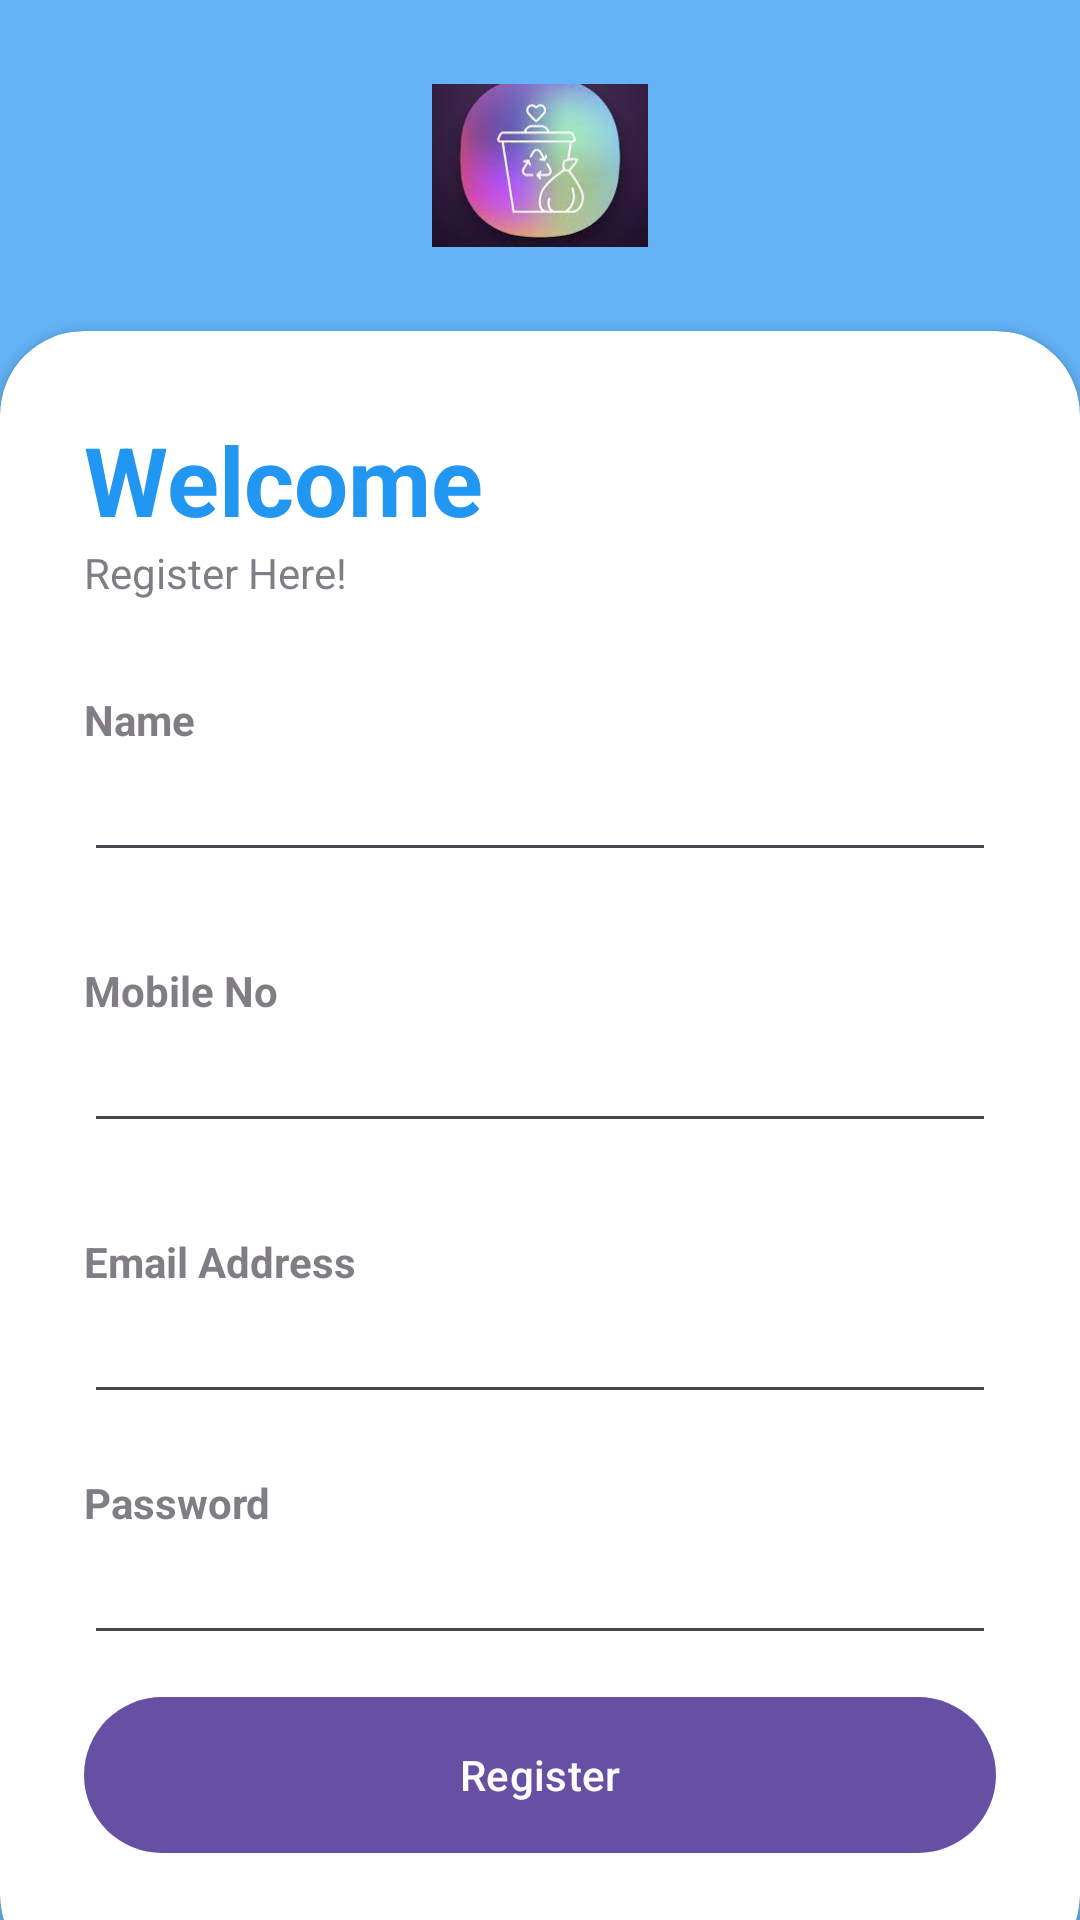

Screen size 1080px×1920px. Icon name, then its center in pixels as (x,y):
garbage: (540,165)
